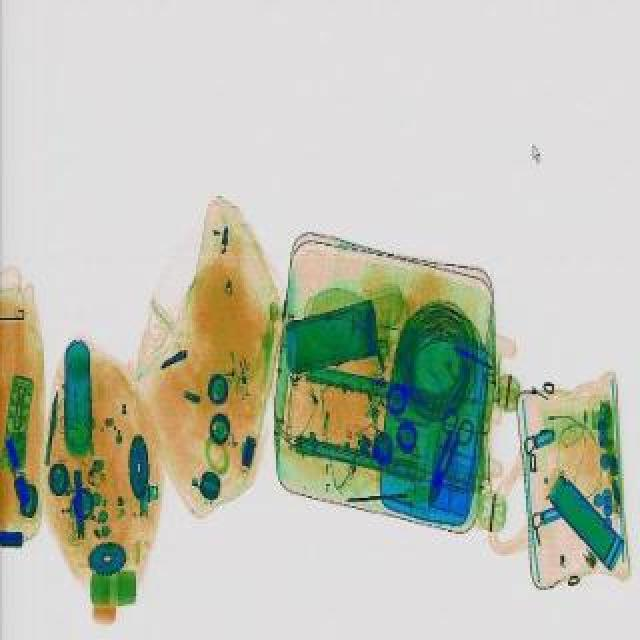pliers: (412, 404, 478, 510)
